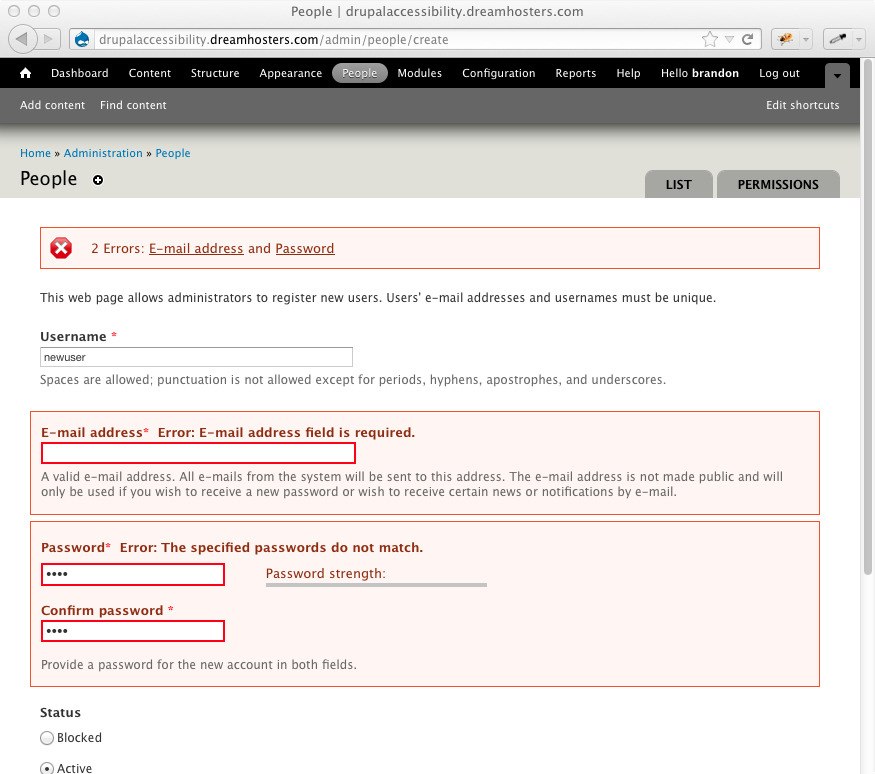error_field: (40, 442, 353, 464), (39, 562, 227, 586), (39, 620, 225, 643)
error_message: (39, 542, 426, 554), (39, 427, 416, 439), (88, 242, 335, 256), (39, 602, 174, 620), (262, 567, 389, 580)
